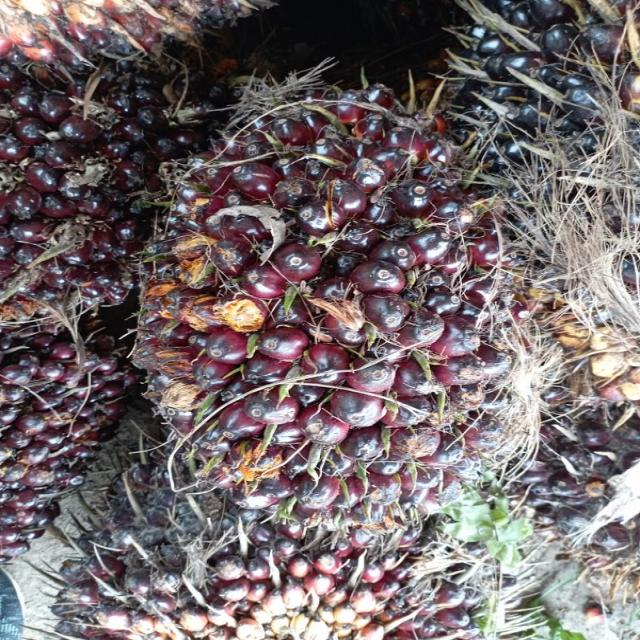fraksi 1: (81, 70, 570, 548)
